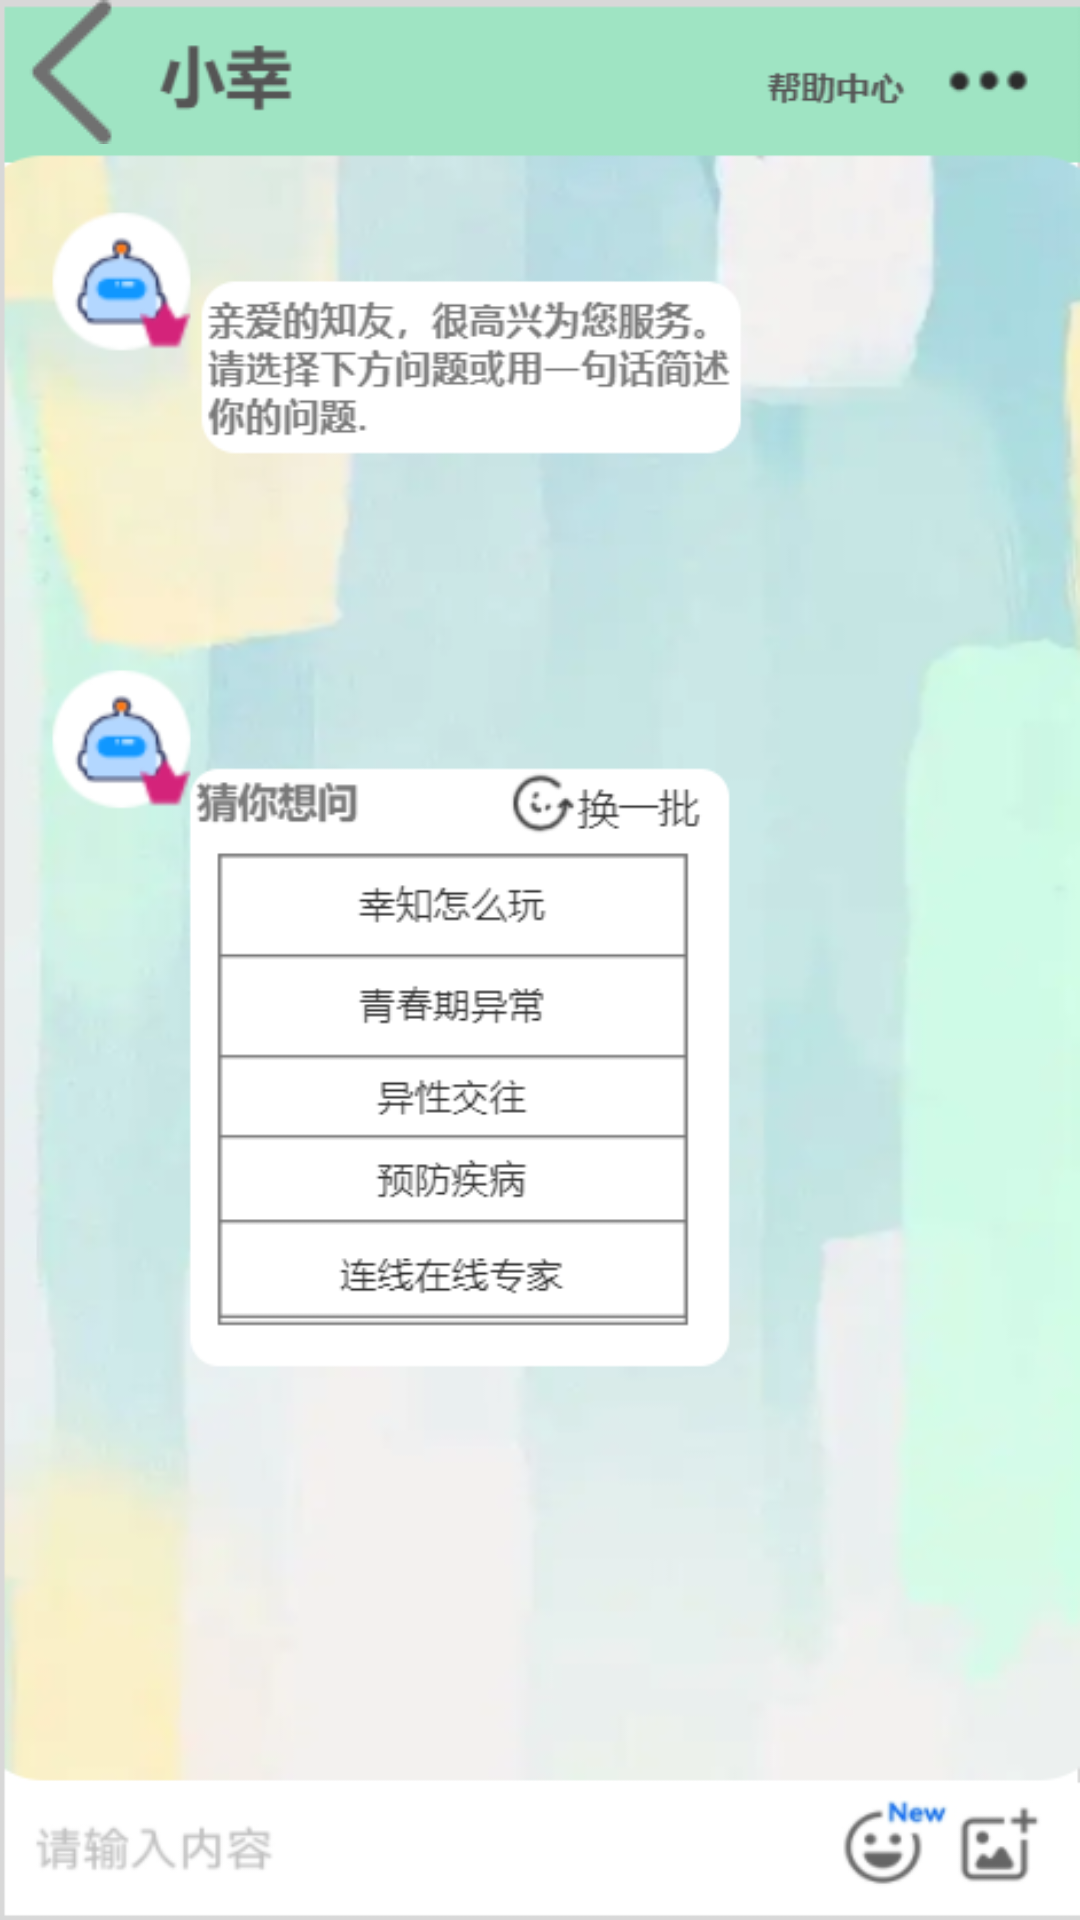

Named icons in this screenshot (1080×1920) and their bounding boxes, (x1,y1,x2,y2):
return three: (0,0,144,144)
